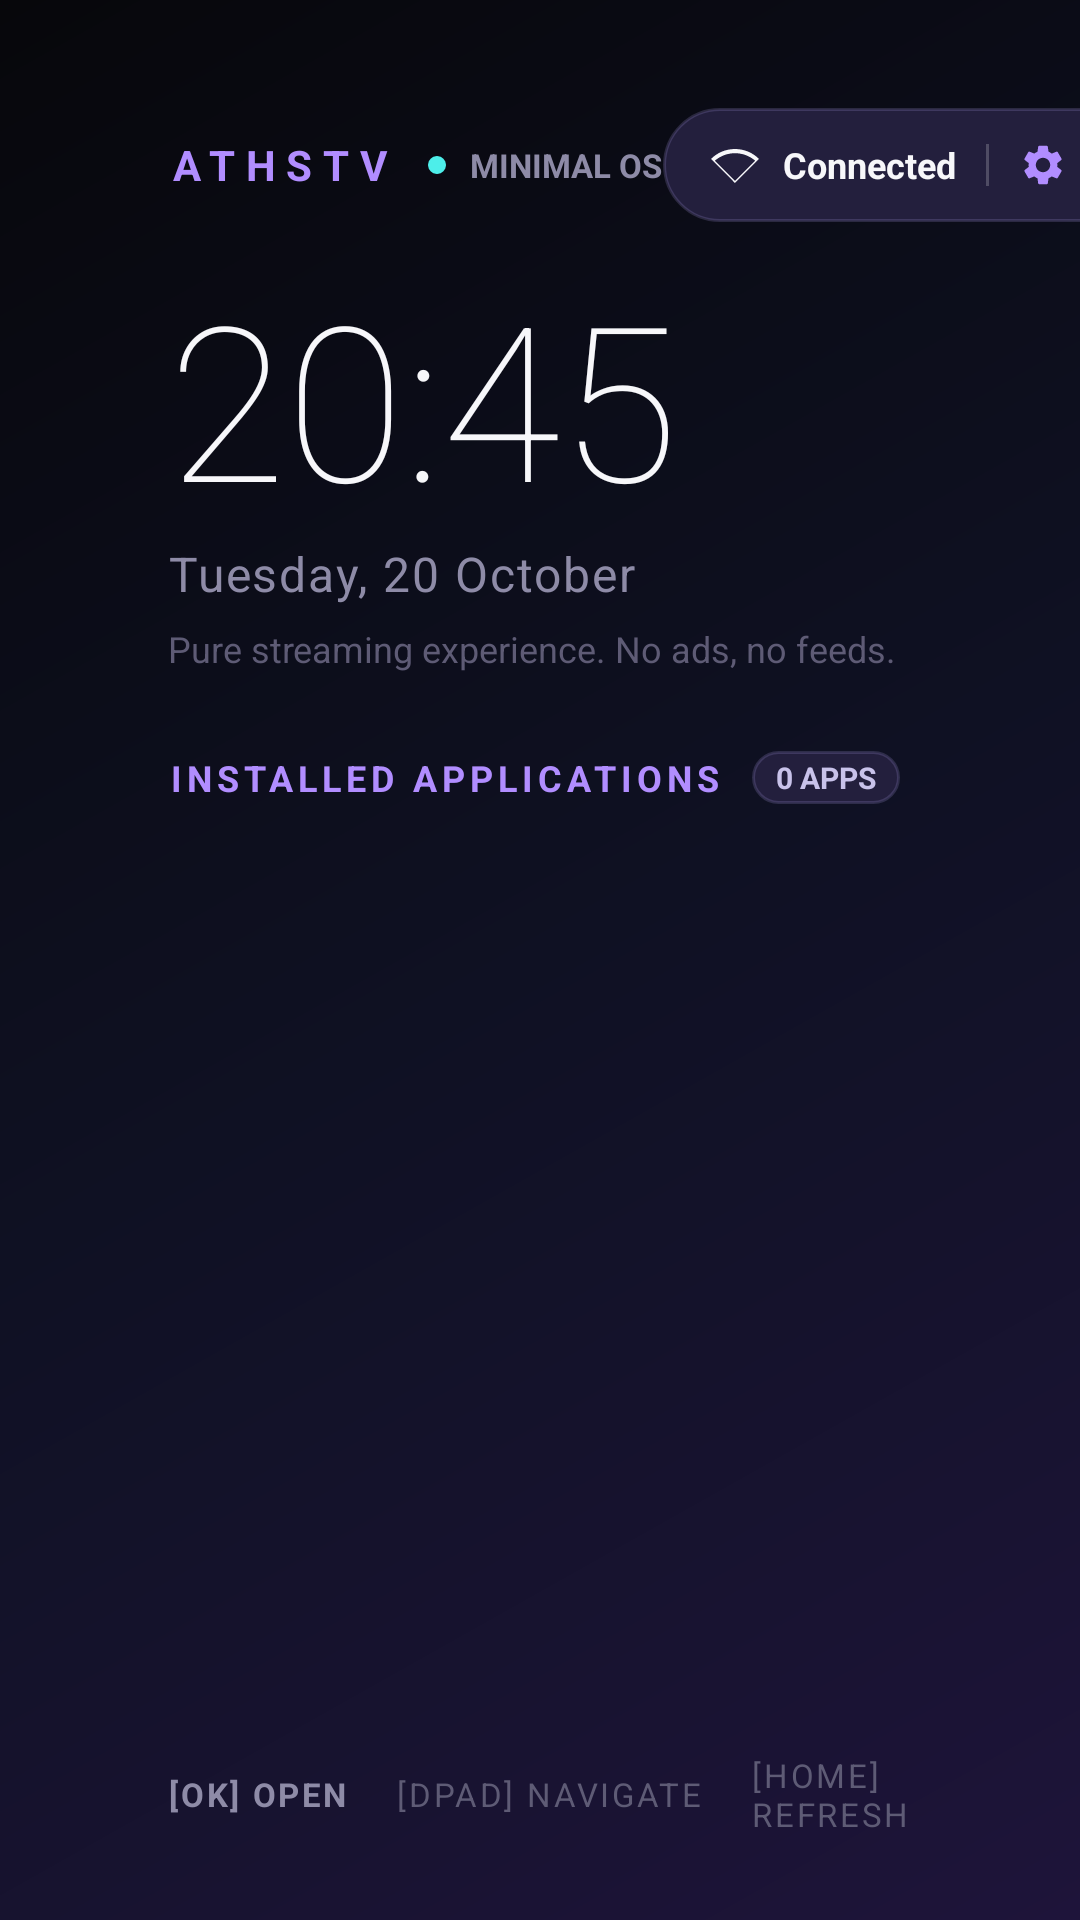

Screen size 1080x1920. Icon name, then its box in pixels as detection(x1, y1, x2, y2):
wifi: detection(711, 149, 759, 183)
